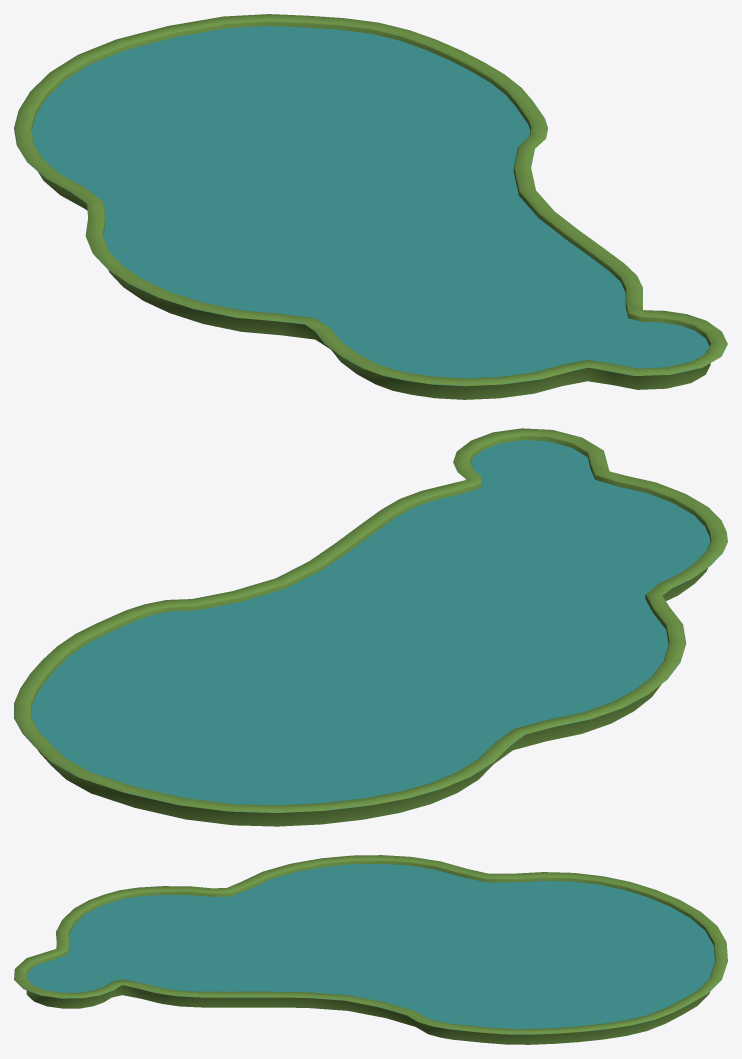
The model's file is pool.fbx.
The picture shows the model from 3 angles, top to bottom: view 1: azimuth 30°, elevation 25°; view 2: azimuth 150°, elevation 25°; view 3: azimuth 270°, elevation 25°; orthographic projection. The views are drawn at different scales.
Visible parts, largest first — view 1: pool_water, Object040; view 2: pool_water, Object040; view 3: pool_water, Object040.
Boxes of the visible parts, bbox=[...] form: pool_water: bbox=[32, 26, 709, 378]; Object040: bbox=[14, 14, 727, 399]; pool_water: bbox=[31, 440, 710, 805]; Object040: bbox=[14, 428, 727, 826]; pool_water: bbox=[27, 864, 714, 1028]; Object040: bbox=[14, 855, 727, 1044].
Size of the model in its own units: 29710 by 1288 by 49989.
